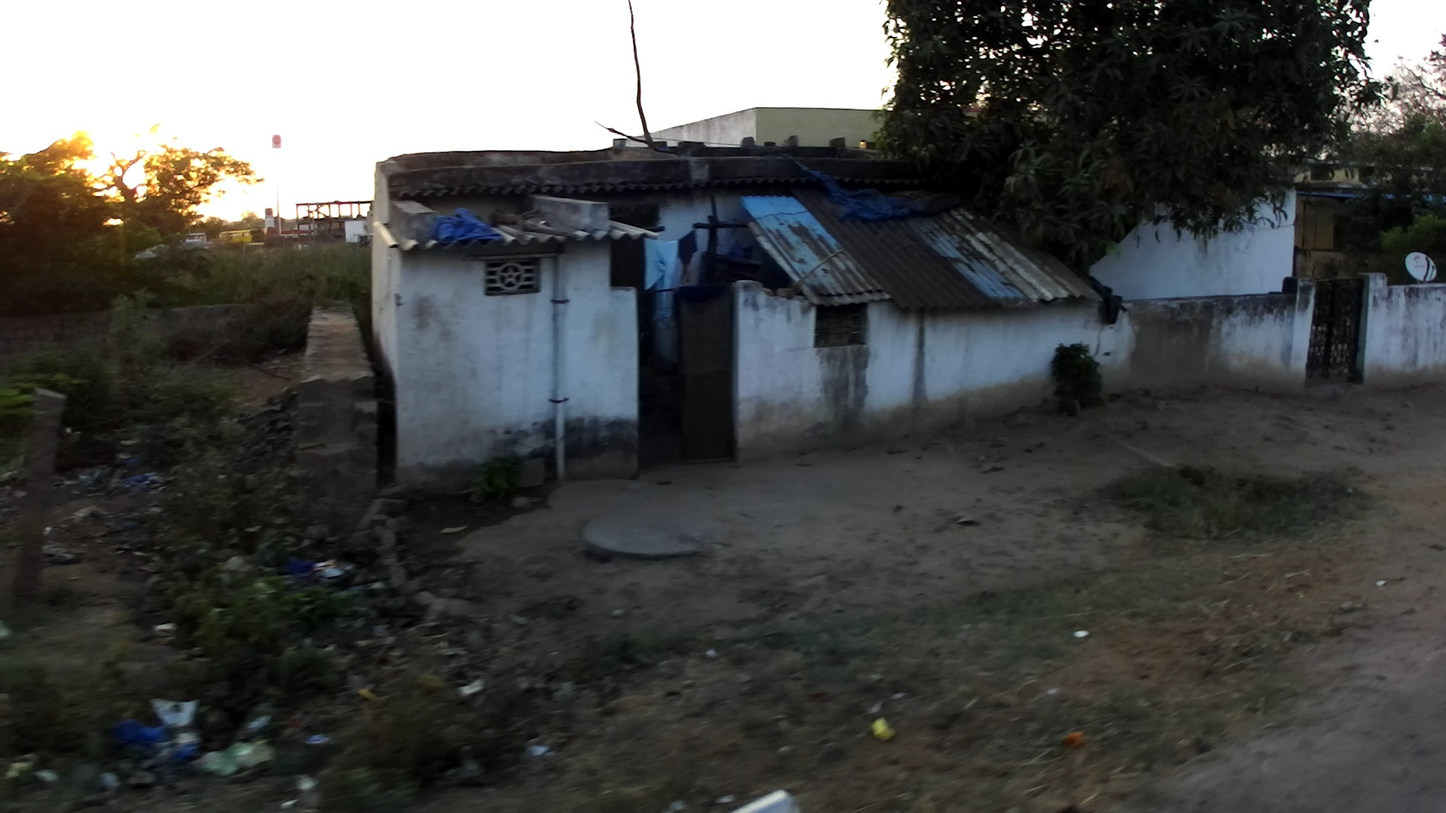vehicle fallback: (218, 228, 258, 244), (180, 231, 212, 249)
